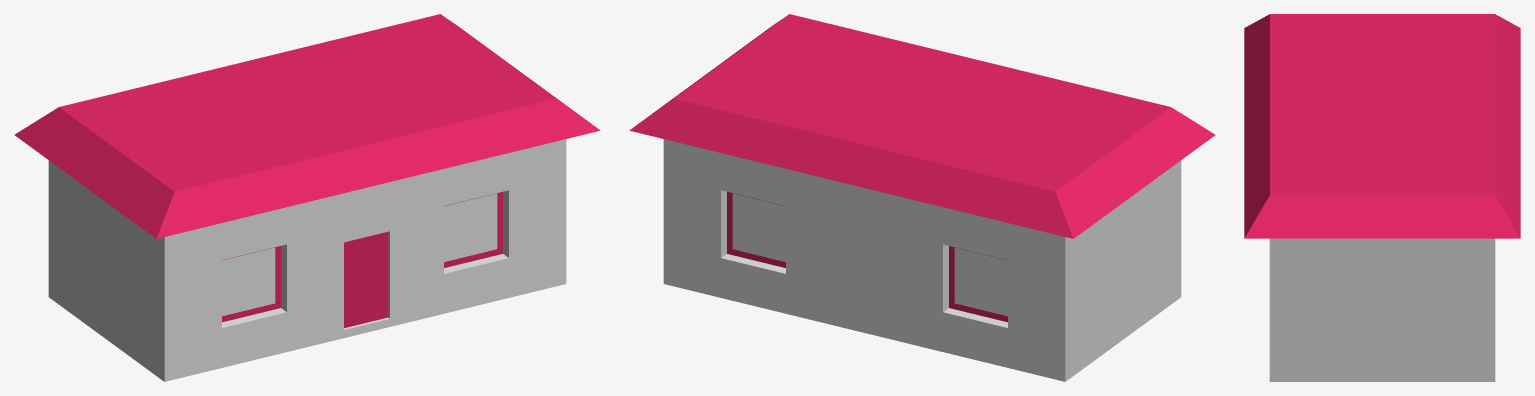
Rendered from house_red.glb.
The picture shows the model from 3 angles, left to right: view 1: azimuth 30°, elevation 25°; view 2: azimuth 150°, elevation 25°; view 3: azimuth 270°, elevation 25°; orthographic projection. The views are drawn at different scales.
Parts seen in each view (by area): view 1: Cube, Cube.001; view 2: Cube, Cube.001; view 3: Cube.
Part boxes in pixels (x1,y1,x2,y2): Cube: [14, 14, 600, 381]; Cube.001: [222, 191, 502, 322]; Cube: [629, 14, 1215, 381]; Cube.001: [727, 191, 1007, 322]; Cube: [1244, 14, 1520, 381].
Size of the model in its own units: 8.85 by 3.57 by 4.9.
